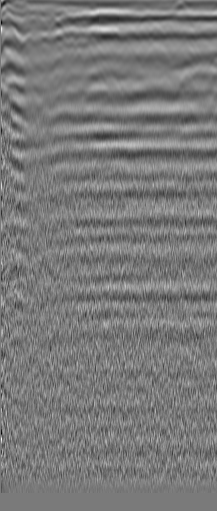오수: (23, 16, 43, 36)
우수: (165, 42, 197, 67)
